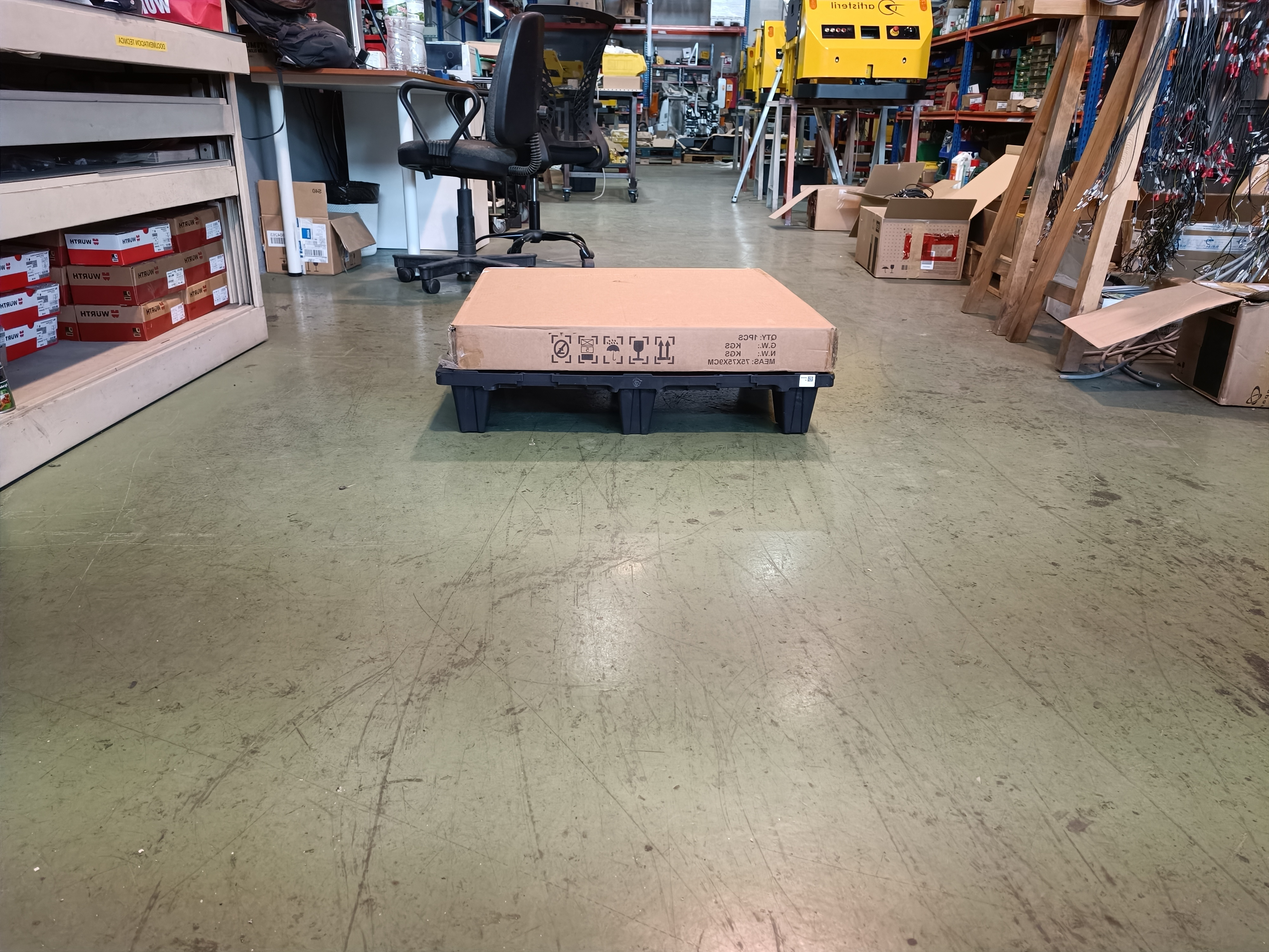block: (438, 373, 496, 435), (775, 376, 831, 440), (609, 375, 666, 436)
front: (443, 370, 830, 438)
hole pallet: (484, 387, 619, 435), (651, 388, 786, 428)
